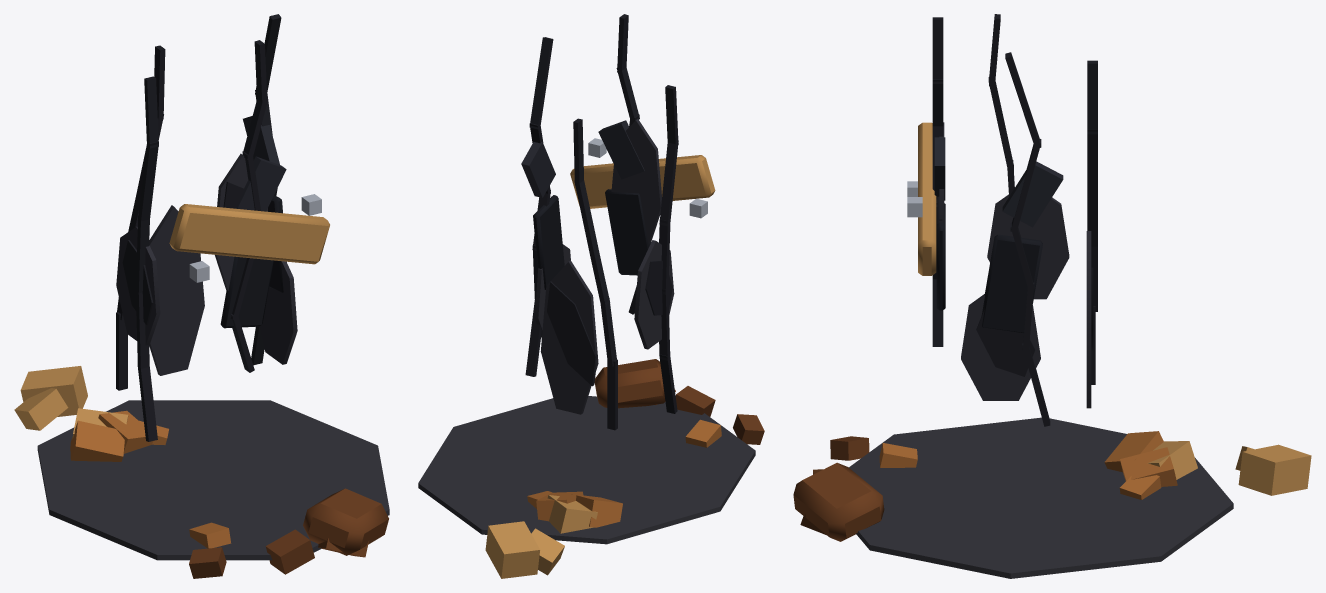
Rendered from wall_dmg_0_2.glb.
3 views of the same model, side by side, from view 1: azimuth 30°, elevation 25°; view 2: azimuth 150°, elevation 25°; view 3: azimuth 270°, elevation 25° (orthographic). The views are drawn at different scales.
Parts seen in each view (by area): view 1: body; view 2: body; view 3: body.
Boxes of the visible parts, x1,y1,x2,y2 form: body: [14, 14, 389, 578]; body: [418, 14, 764, 578]; body: [793, 14, 1311, 578].
Size of the model in its own units: 1.21 by 1.81 by 1.7.
